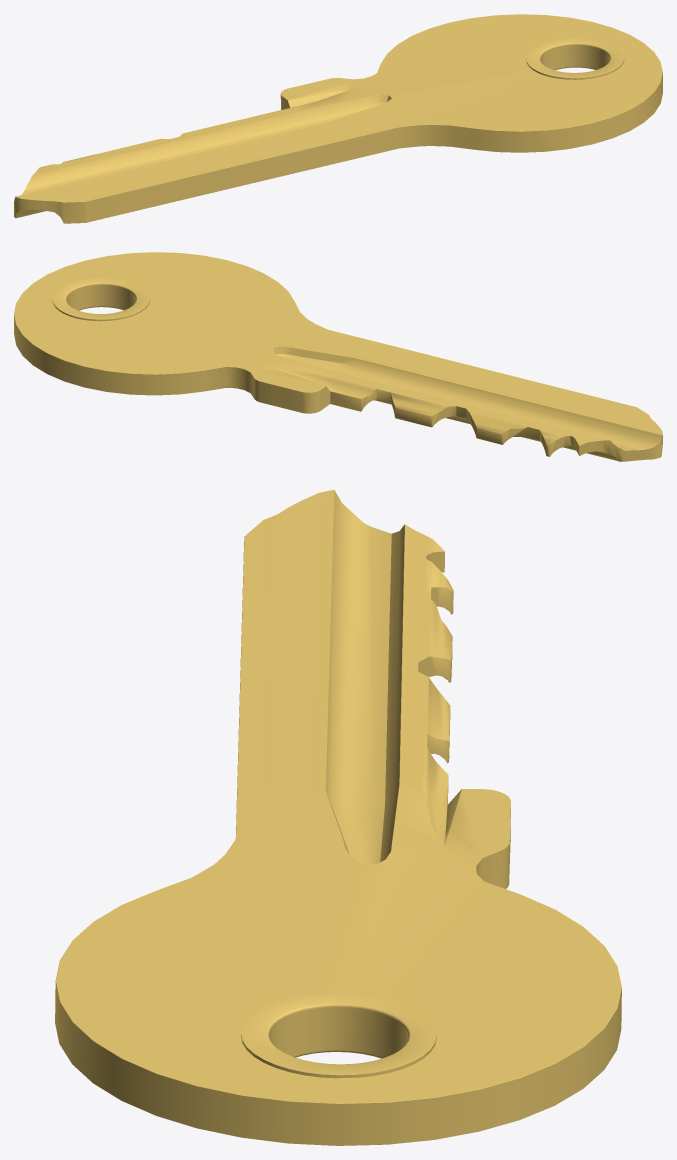
The model's file is key0.fbx.
3 views of the same model, one above another, from view 1: azimuth 30°, elevation 25°; view 2: azimuth 150°, elevation 25°; view 3: azimuth 270°, elevation 25° (orthographic). The views are drawn at different scales.
Parts seen in each view (by area): view 1: Key; view 2: Key; view 3: Key.
Boxes of the visible parts, x1=… form: Key: x1=14, y1=14, x2=662, y2=223; Key: x1=14, y1=252, x2=662, y2=461; Key: x1=55, y1=490, x2=621, y2=1145.
Bounding box in the file's own units: 20.87 × 0.8054 × 8.16.
